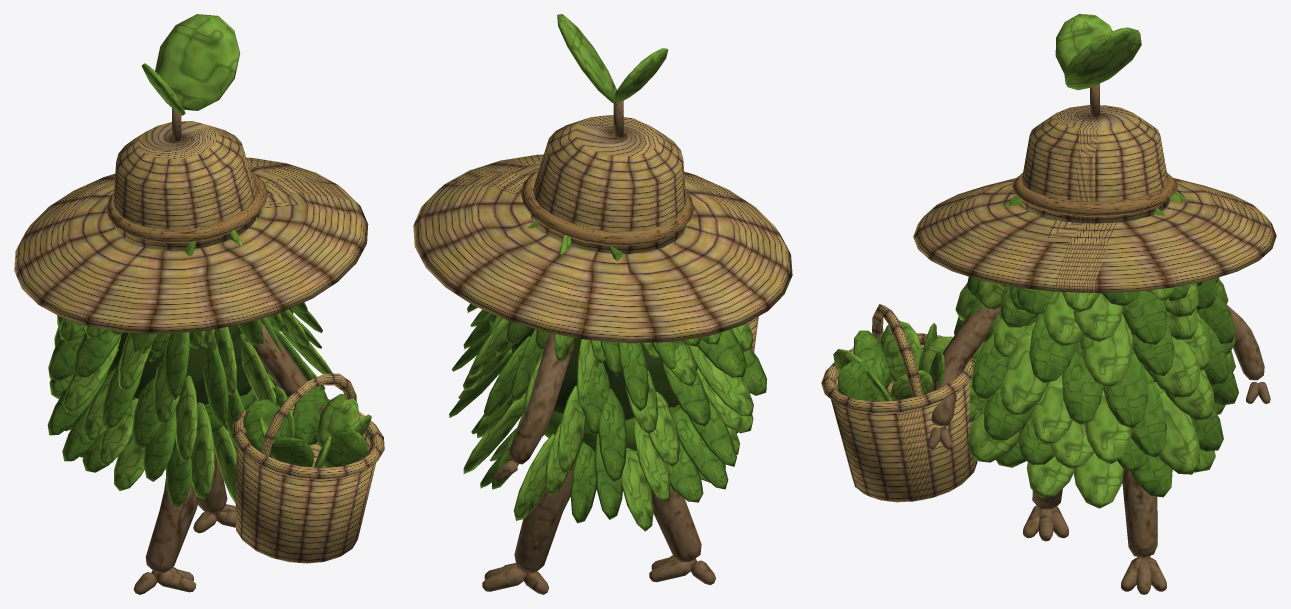
File: unit_farmhand_0.glb
3 views of the same model, side by side, from view 1: azimuth 30°, elevation 25°; view 2: azimuth 150°, elevation 25°; view 3: azimuth 270°, elevation 25° (orthographic). The views are drawn at different scales.
Visible parts, largest first — view 1: unit_farmhand_0; view 2: unit_farmhand_0; view 3: unit_farmhand_0.
Part boxes in pixels (left/top/right/bottom): unit_farmhand_0: left=14, top=14, right=384, bottom=594; unit_farmhand_0: left=413, top=14, right=792, bottom=594; unit_farmhand_0: left=821, top=14, right=1276, bottom=594.
Size of the model in its own units: 0.8843 by 1.46 by 1.12.
Materials: 6 (6 with a texture image).
